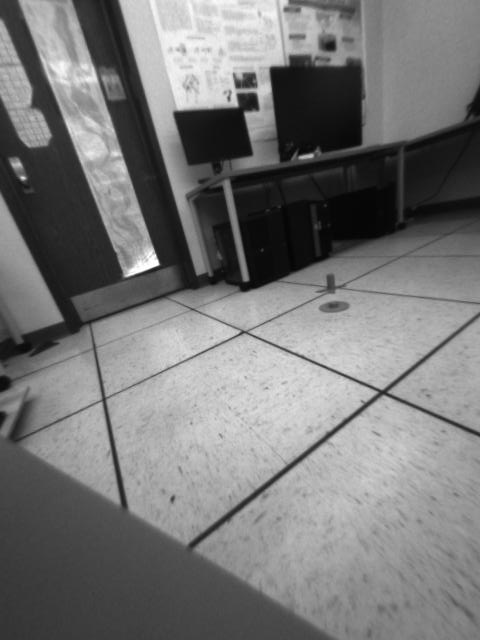X: (316, 274, 348, 296)
